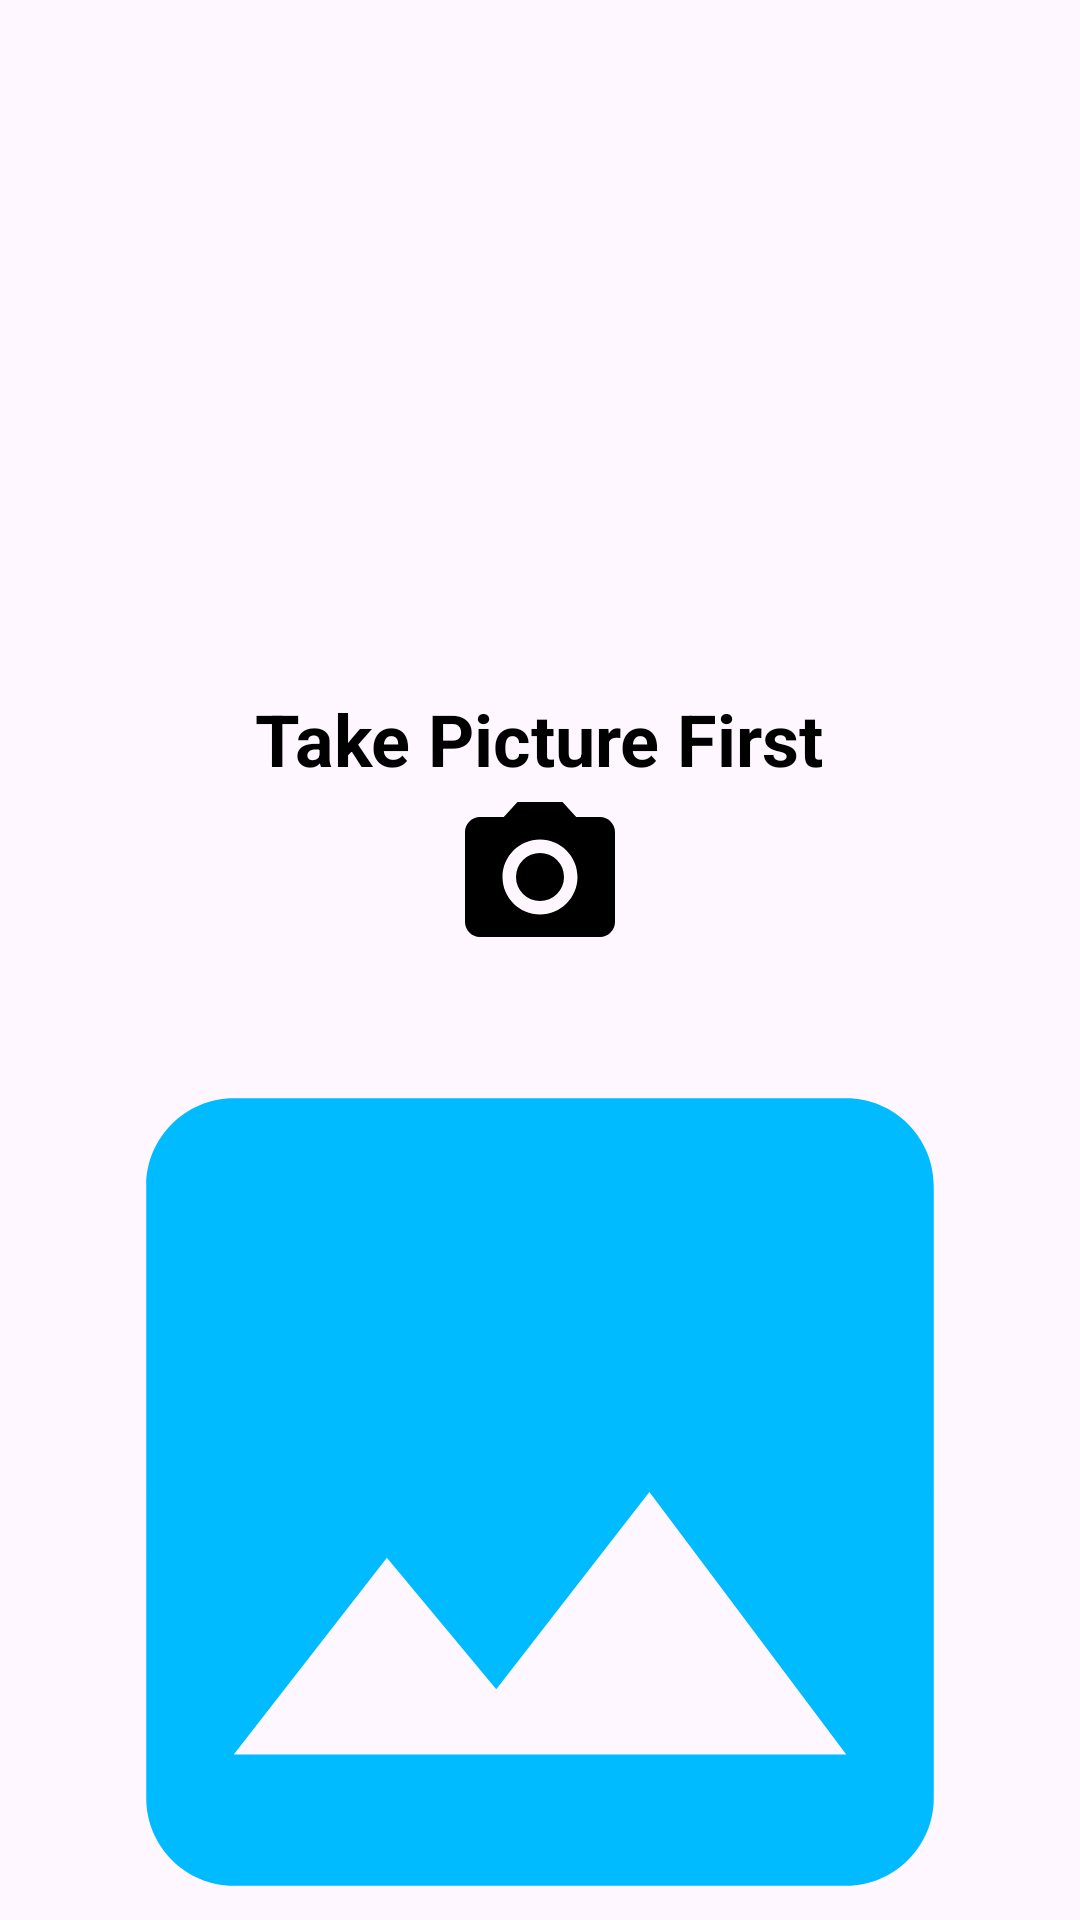

Where icons sit on this 1080×1920 app screen, as (left=x1, top=y1, right=x2, bottom=y2):
camera: (left=465, top=802, right=615, bottom=937)
